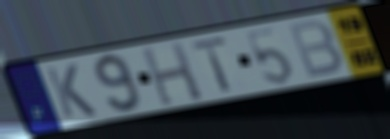5: (242, 25, 296, 86)
9: (90, 51, 146, 115)
B: (285, 18, 346, 81)
H: (137, 39, 207, 108)
K: (42, 62, 100, 120)
T: (188, 34, 235, 95)
